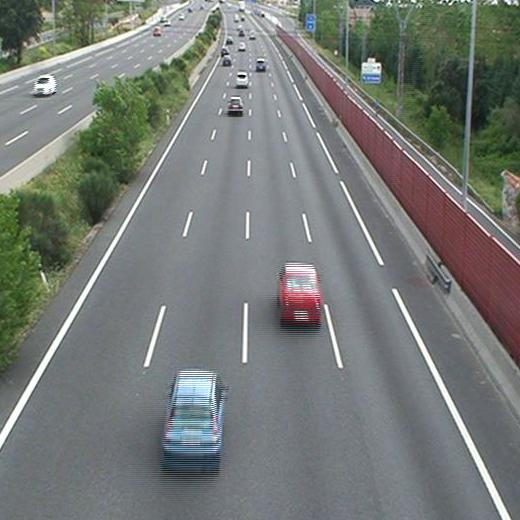car: (164, 371, 221, 457), (279, 264, 321, 321), (228, 98, 243, 111), (235, 73, 247, 87), (255, 59, 266, 70), (237, 42, 247, 53), (222, 56, 232, 66)
